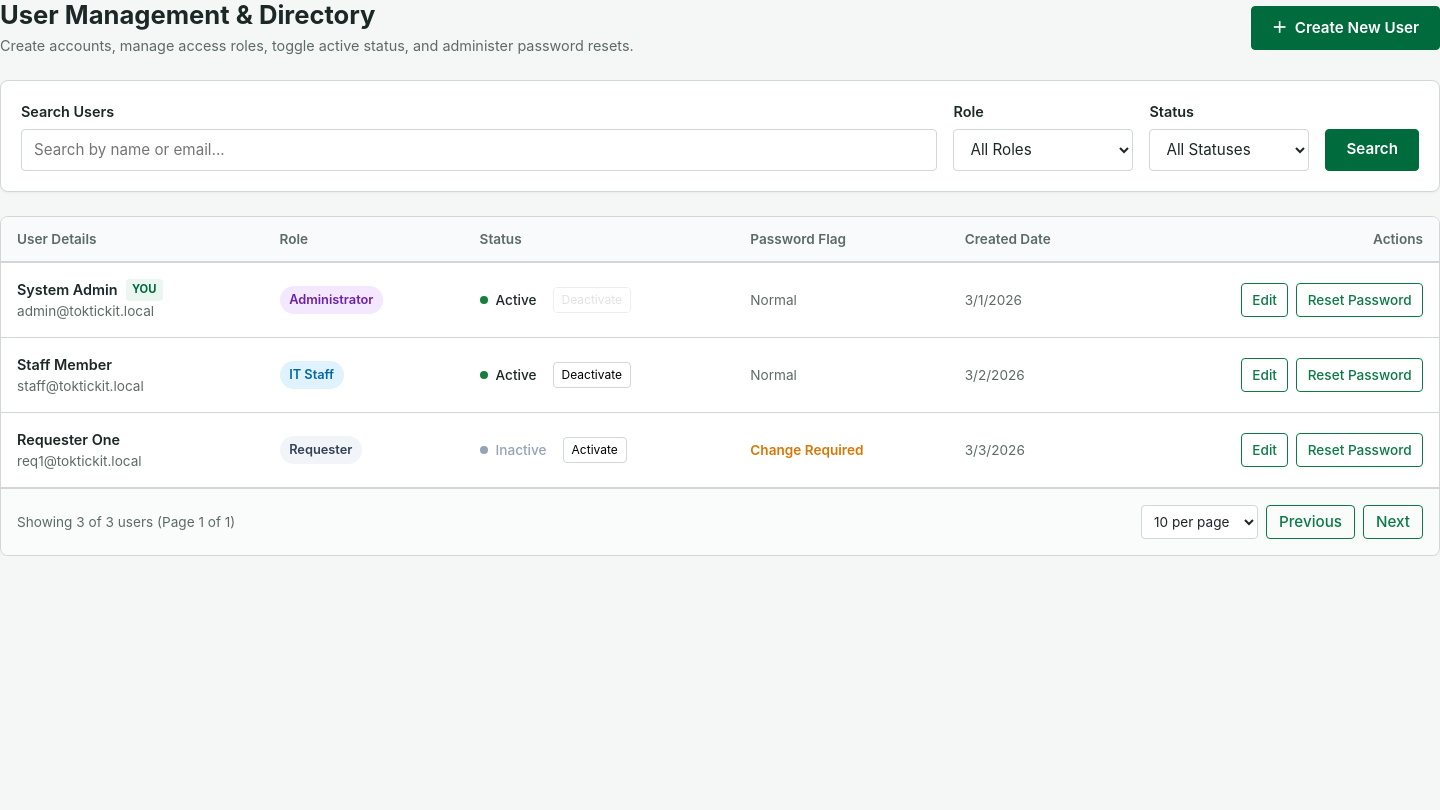
Test: UI-05: User Management Component (Issue #39) › opens edit modal and enforces self-deactivation lock on active status checkbox
The image size is (1440, 810).
Edit self
Click the button with test id "edit-user-btn-1" at (1265, 300), box [1241, 283, 1288, 317]
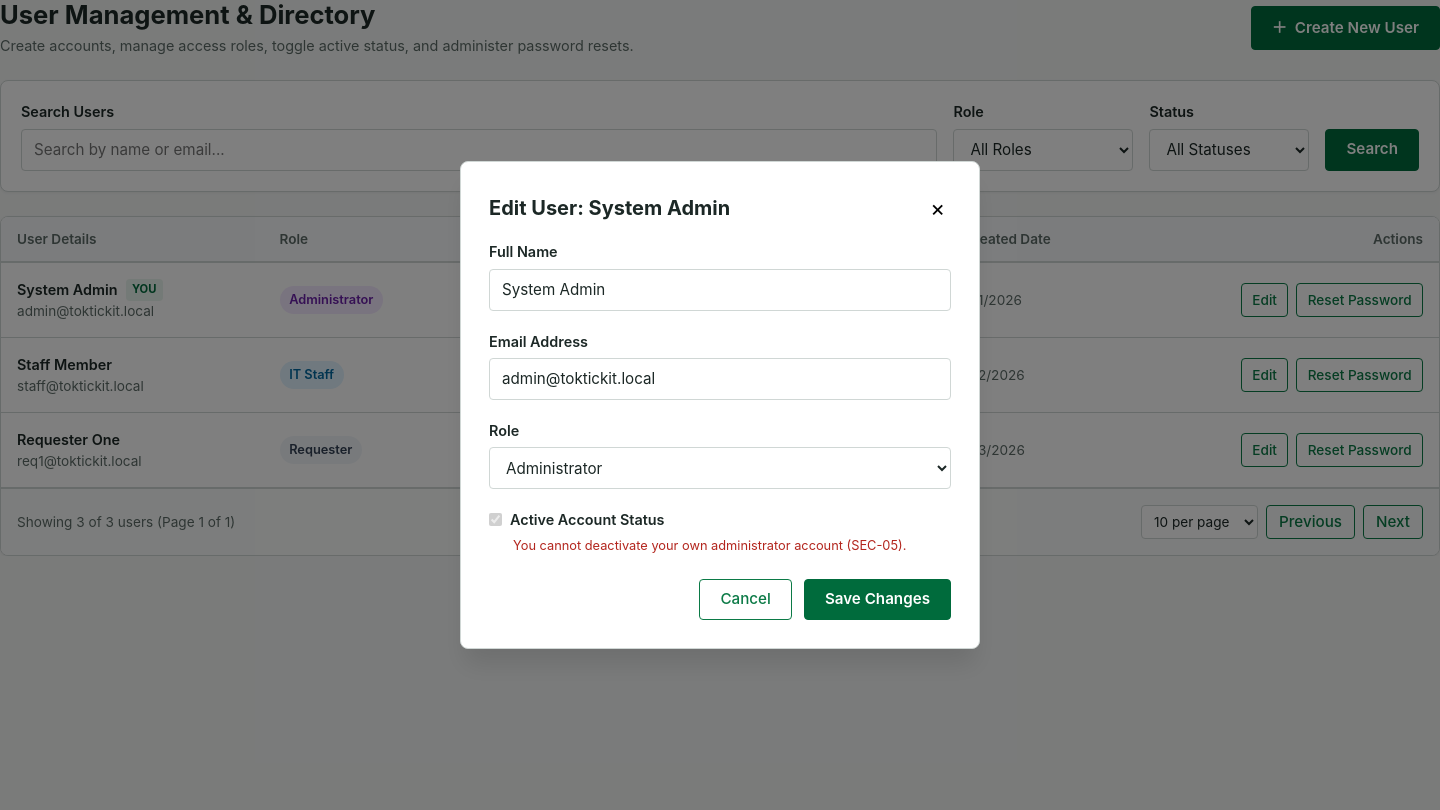
Expected: the checkbox with test id "edit-active-checkbox" is disabled, [489, 513, 502, 526]
